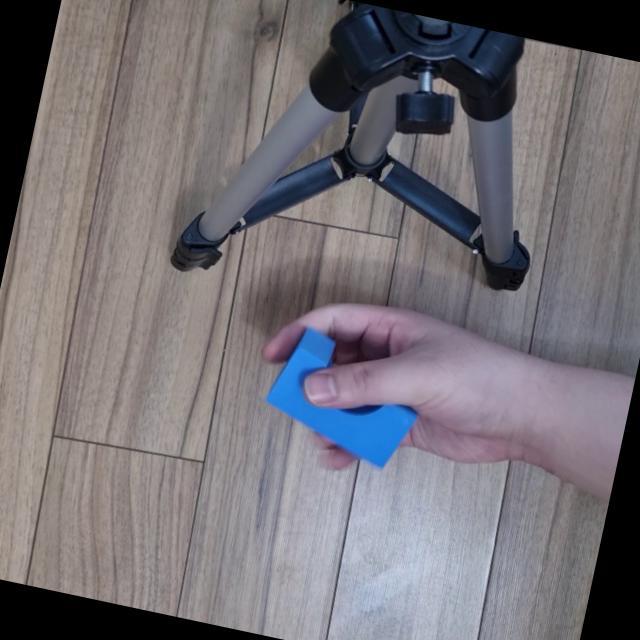block: (253, 326, 432, 474)
hand: (244, 262, 530, 502)
